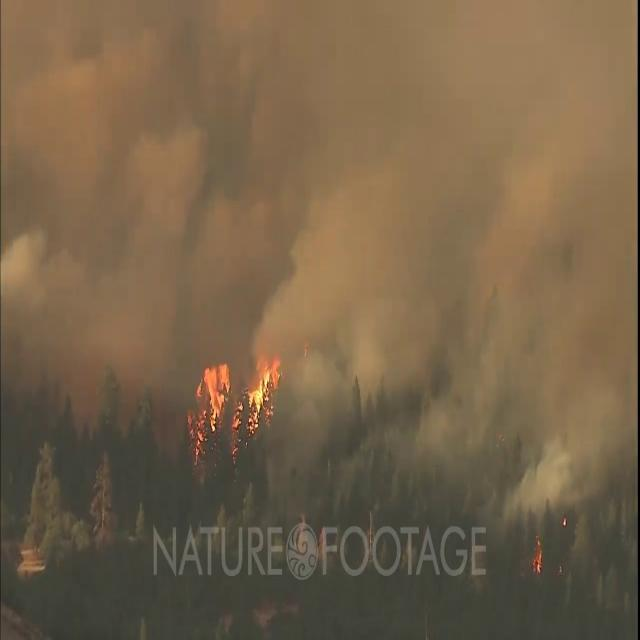Fire: (186, 352, 281, 465), (531, 535, 543, 573)
Smoke: (0, 1, 638, 548)
